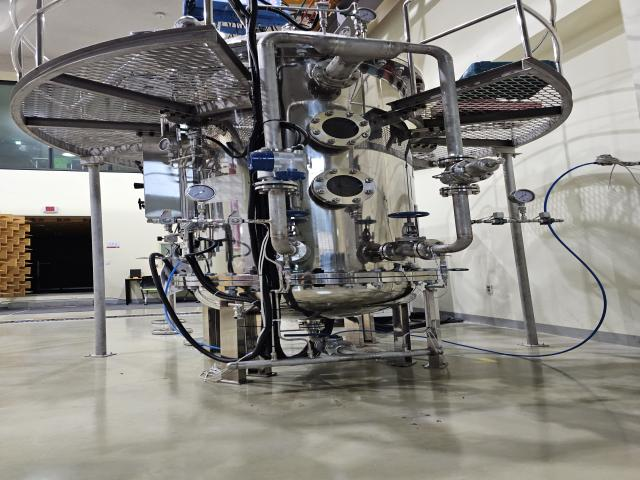Flange: (307, 110, 372, 150), (312, 167, 376, 207)
Flush Ring: (312, 58, 362, 87), (266, 238, 308, 263), (378, 241, 411, 263), (413, 239, 447, 260), (254, 180, 299, 194), (325, 340, 358, 359), (435, 154, 479, 168), (439, 184, 480, 198)
GasRegulator: (157, 129, 223, 175)
Nuts: (533, 216, 559, 226), (222, 216, 249, 225), (485, 217, 510, 226), (154, 216, 181, 224)
Piston Valve: (267, 209, 309, 241), (387, 211, 430, 242)
Pressure Gage: (185, 184, 217, 220), (508, 188, 536, 220)
